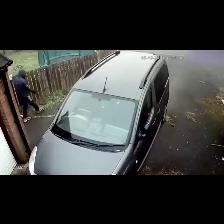person: (13, 70, 42, 122)
